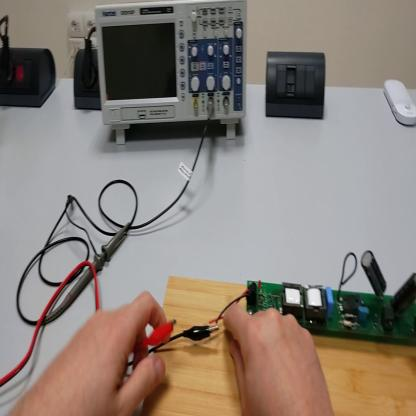hand: (6, 288, 170, 414), (223, 304, 334, 416)
high voltage board: (207, 254, 416, 350)
oscilloscope: (94, 2, 251, 146)
oscilloscope probe tip: (45, 226, 130, 324)
socket: (1, 45, 58, 112), (75, 48, 104, 114)
working area: (140, 280, 413, 416)
